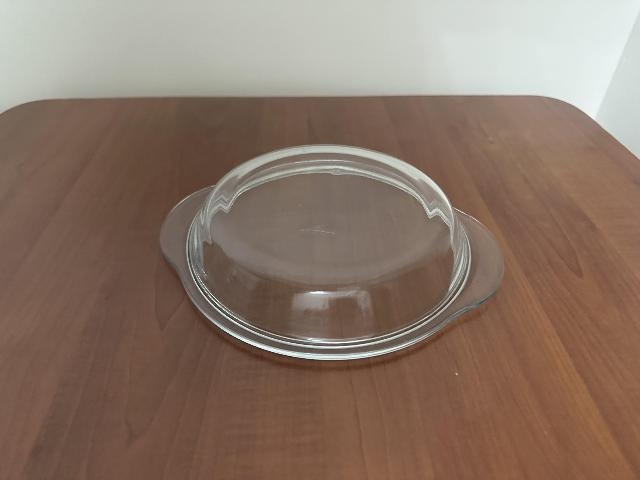Cam: (159, 143, 506, 359)
